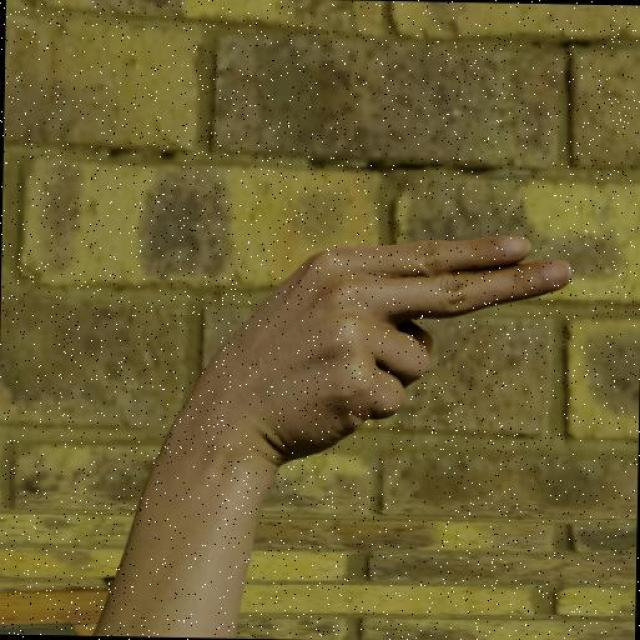H: (198, 215, 579, 500)
